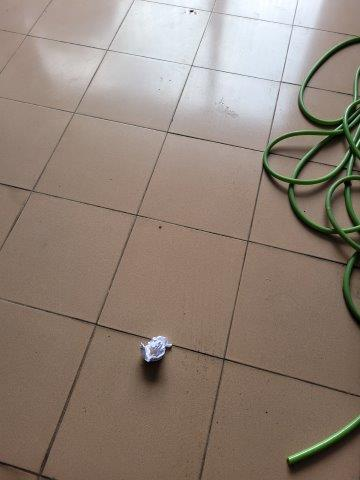kertas: (138, 335, 172, 366)
